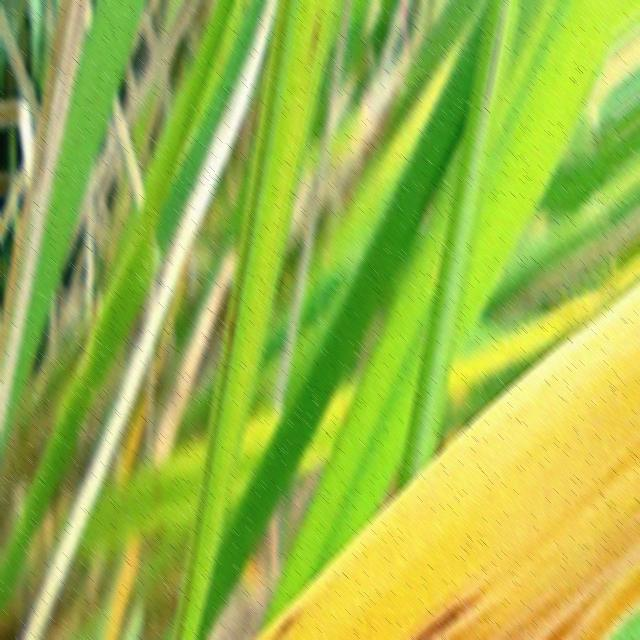NBS: (414, 591, 487, 640), (268, 605, 303, 640)
